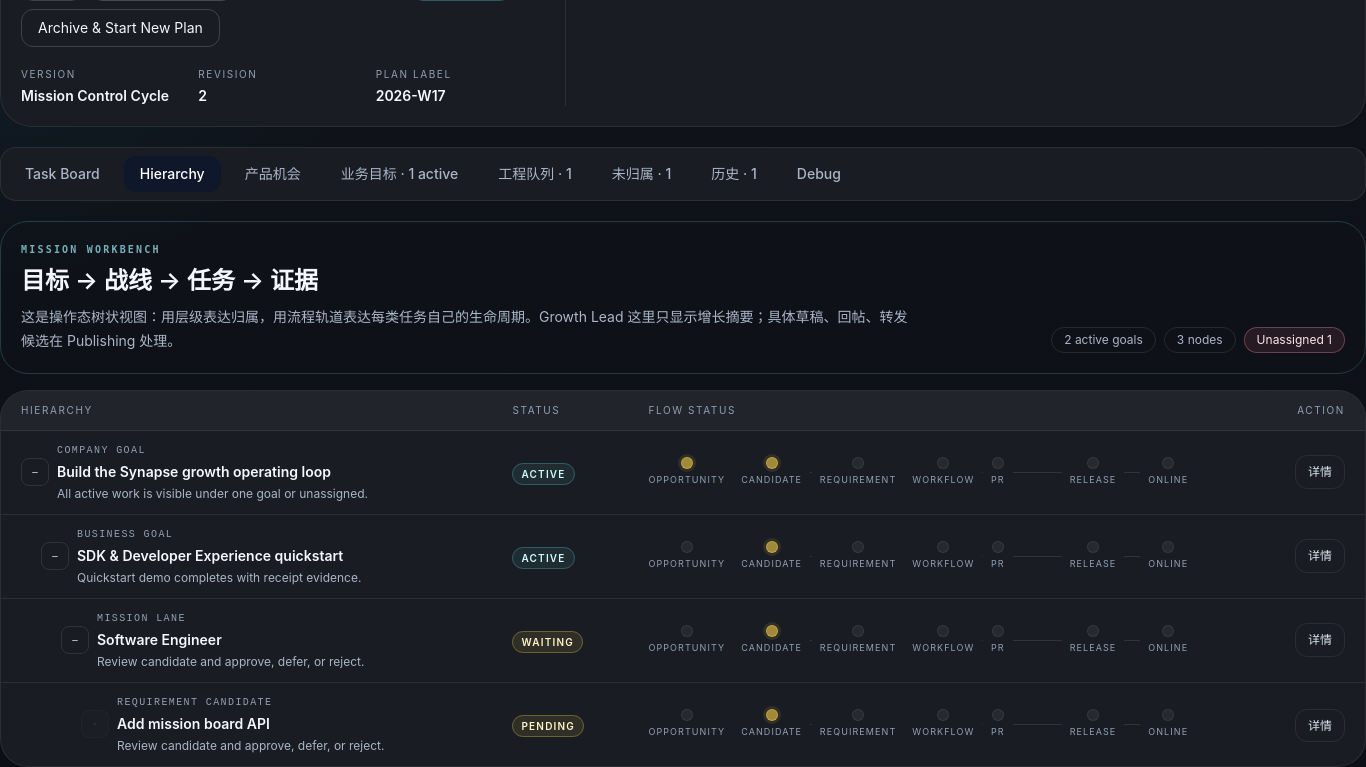
Scenario: PlanningPage queues › opens centered Candidate detail modal from Mission Workbench detail link
The width and height of the screenshot is (1366, 767).
(page scrolled)
Expected: the heading "目标 → 战线 → 任务 → 证据" is shown, [21,266,318,294]
Step 1. Click the link "详情" → (1320, 726), box [1295,709,1345,742]
(page scrolled)
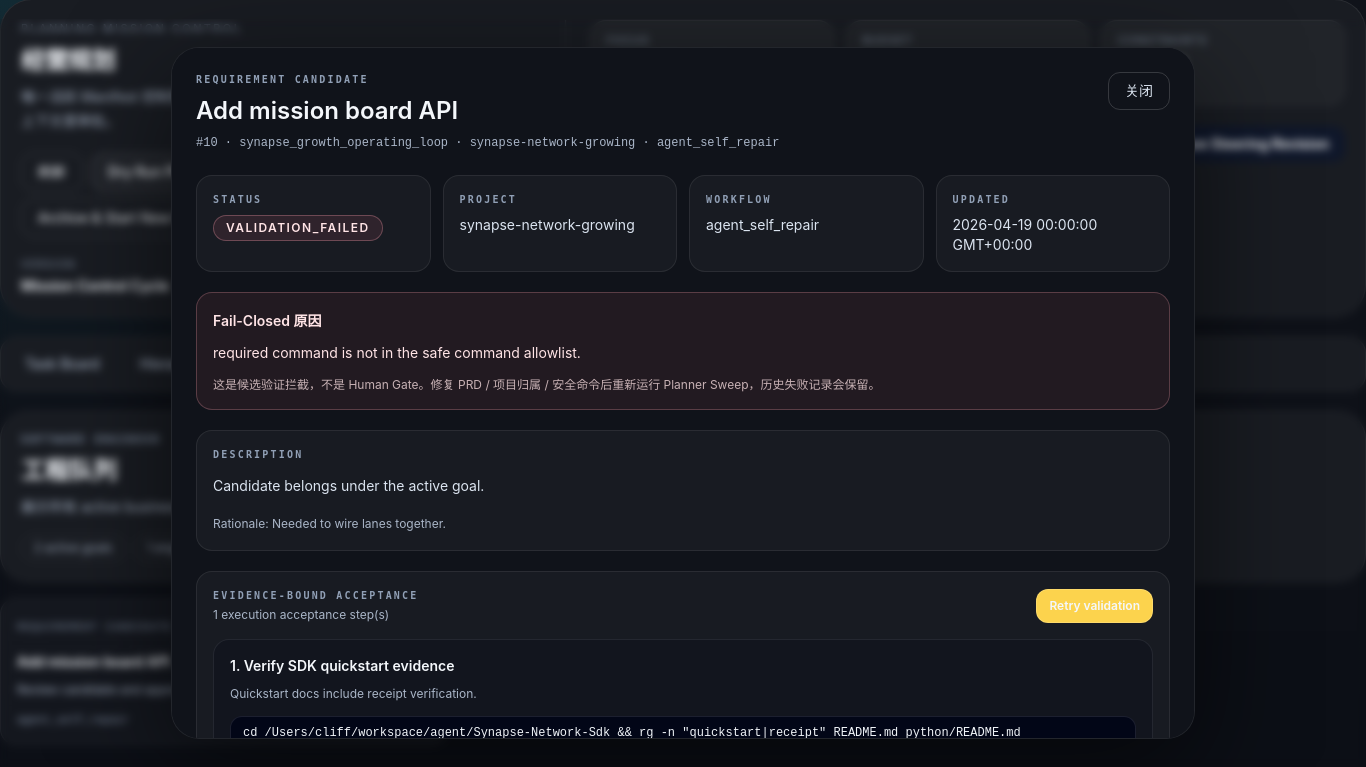
Now the dialog named "Requirement candidate detail" is shown
Now the text "Fail-Closed 原因" is shown, box [213,312,322,329]
Now the text "required command is not in the safe command allowlist." is shown, box [213,344,581,361]
